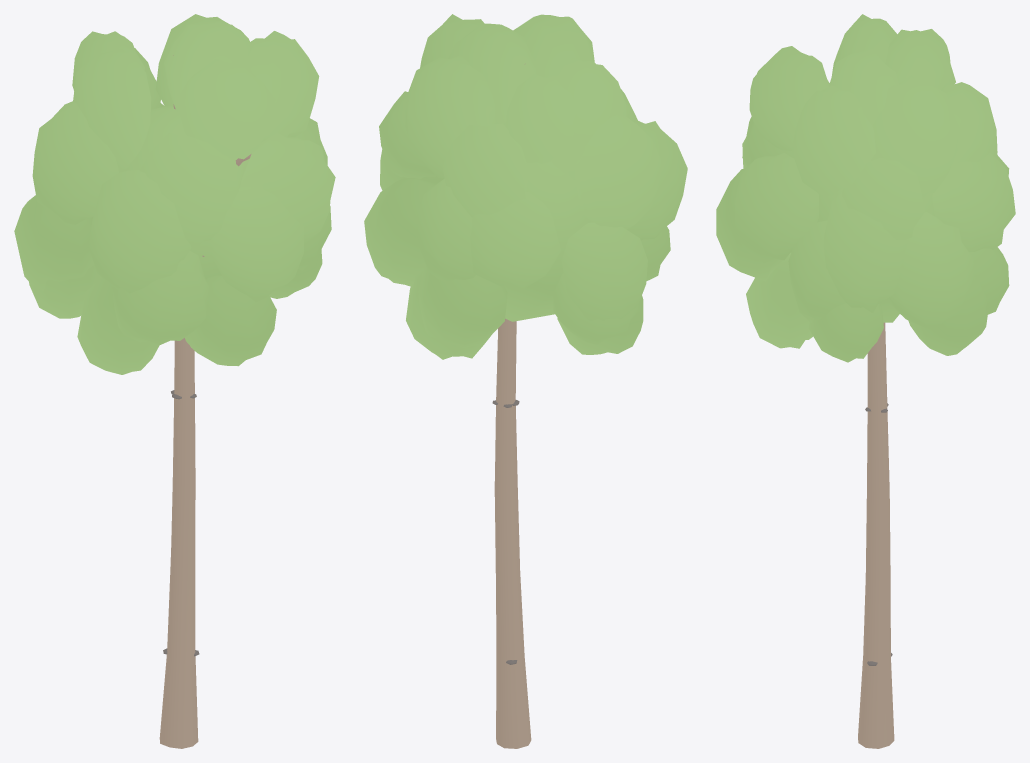
Rendered from Blender_Aspen_1.glb.
3 views of the same model, side by side, from view 1: azimuth 30°, elevation 25°; view 2: azimuth 150°, elevation 25°; view 3: azimuth 270°, elevation 25° (orthographic). The views are drawn at different scales.
Visible parts, largest first — view 1: Blender_Aspen_1; view 2: Blender_Aspen_1; view 3: Blender_Aspen_1.
Part boxes in pixels (x1,y1,x2,y2): Blender_Aspen_1: (14, 14, 335, 748); Blender_Aspen_1: (364, 14, 687, 748); Blender_Aspen_1: (716, 14, 1015, 748).
Size of the model in its own units: 6.09 by 14.61 by 5.69.
